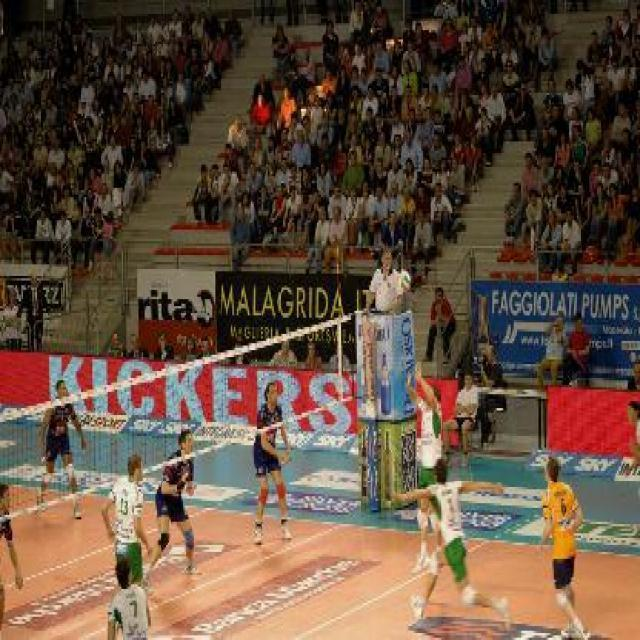volleyball: (397, 273, 410, 290)
